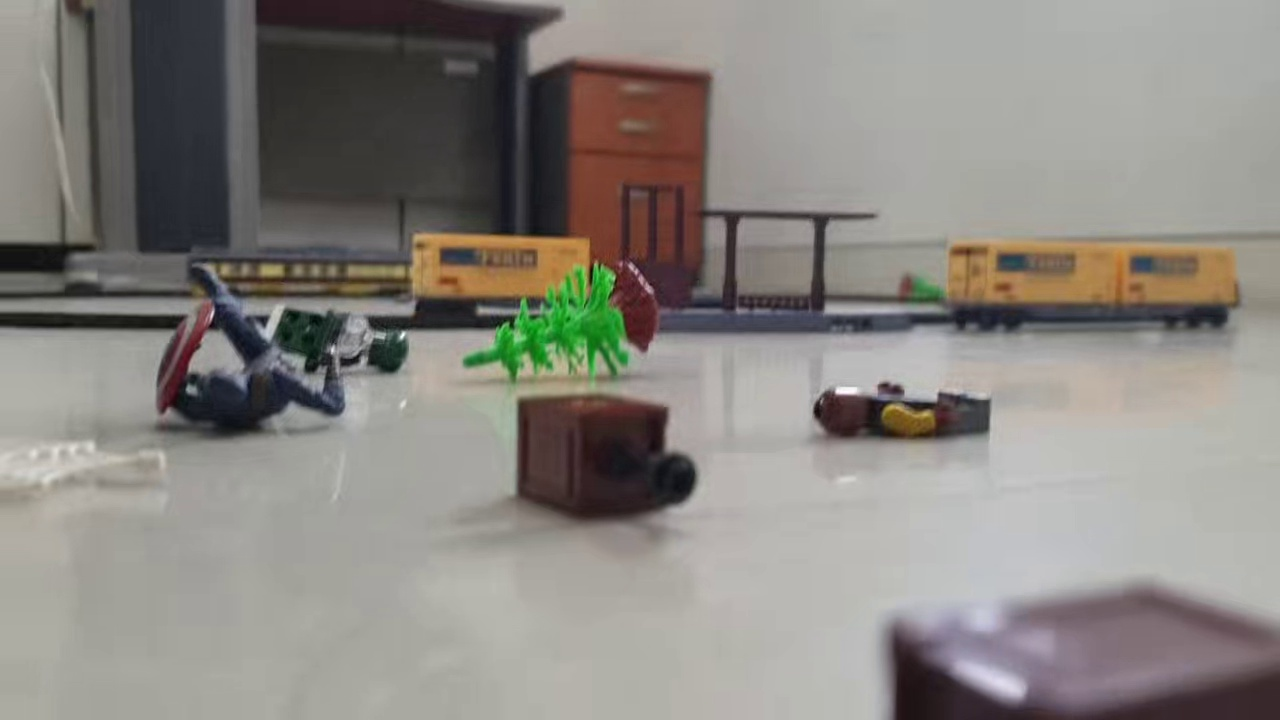box: (888, 569, 1277, 720), (508, 391, 700, 525)
people: (148, 253, 350, 438), (256, 295, 413, 380), (813, 376, 1000, 445)
tree: (459, 255, 666, 388), (896, 271, 948, 308)
web: (1, 437, 168, 506)
